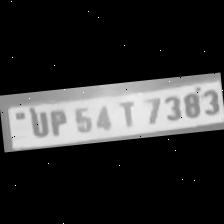3: (198, 84, 222, 114), (160, 92, 182, 122)
4: (90, 99, 115, 130)
5: (68, 102, 94, 133)
7: (138, 94, 164, 124)
8: (178, 89, 201, 119)
P: (44, 104, 69, 136)
T: (113, 96, 141, 127)
U: (24, 106, 50, 138)
